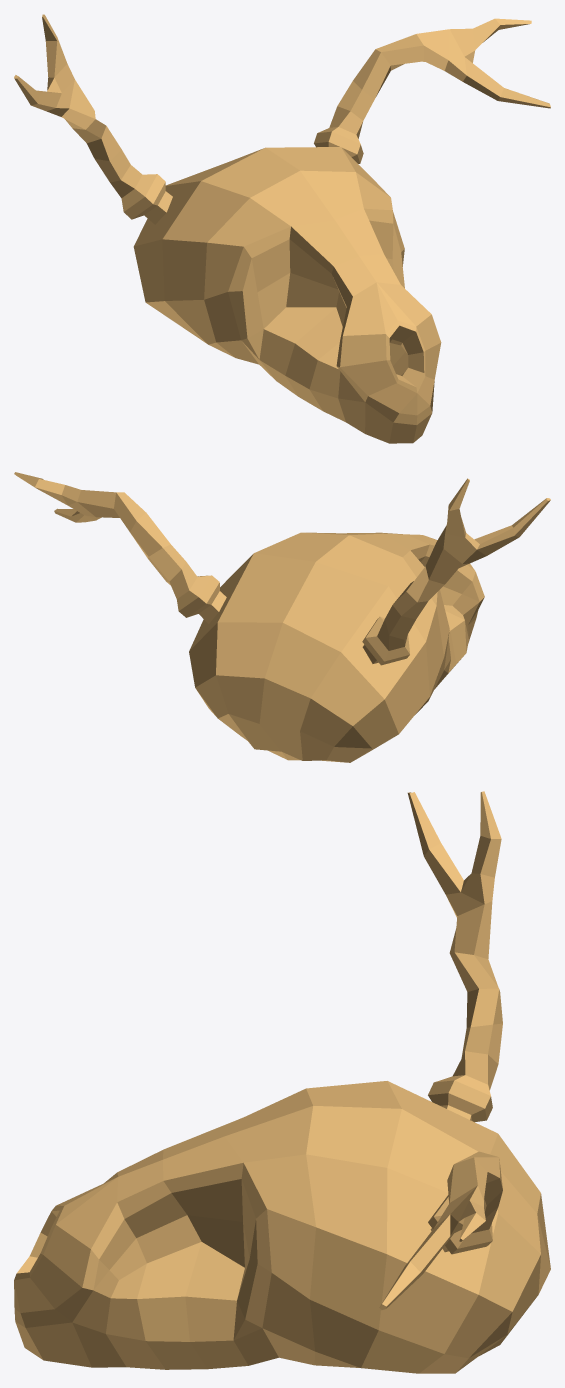
Rendered from Skull_03.fbx.
3 renders of one model, top to bottom at view 1: azimuth 30°, elevation 25°; view 2: azimuth 150°, elevation 25°; view 3: azimuth 270°, elevation 25°, orthographic. The views are drawn at different scales.
Parts seen in each view (by area): view 1: Skull_03; view 2: Skull_03; view 3: Skull_03.
Boxes of the visible parts, x1=… form: Skull_03: x1=14, y1=14, x2=550, y2=443; Skull_03: x1=14, y1=472, x2=550, y2=762; Skull_03: x1=14, y1=791, x2=550, y2=1373.
Bounding box in the file's own units: 113 × 70.46 × 76.29.
